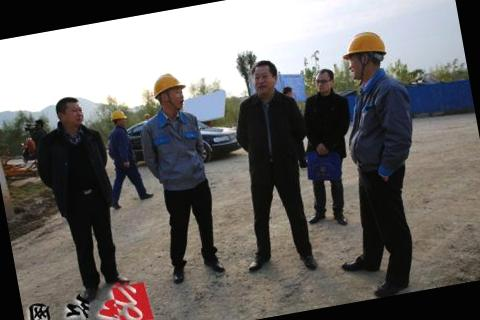no_helmet: (244, 52, 283, 103), (50, 92, 90, 132), (307, 62, 341, 105)
